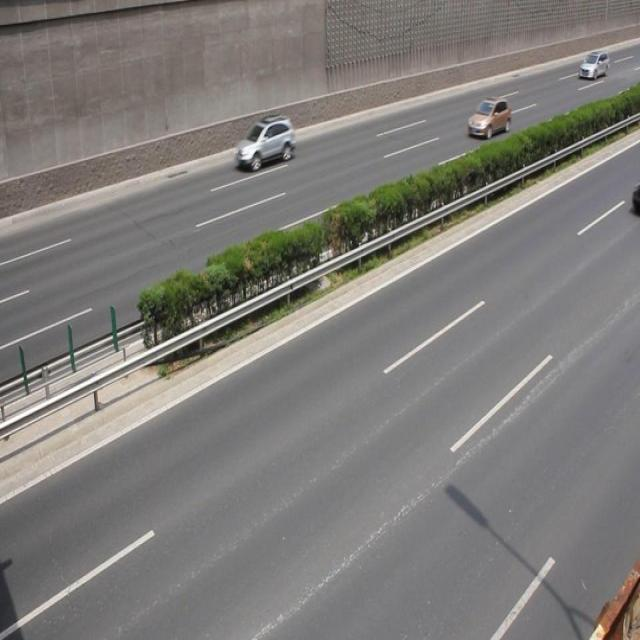car: (233, 117, 294, 171), (466, 97, 512, 140), (577, 52, 609, 78)
